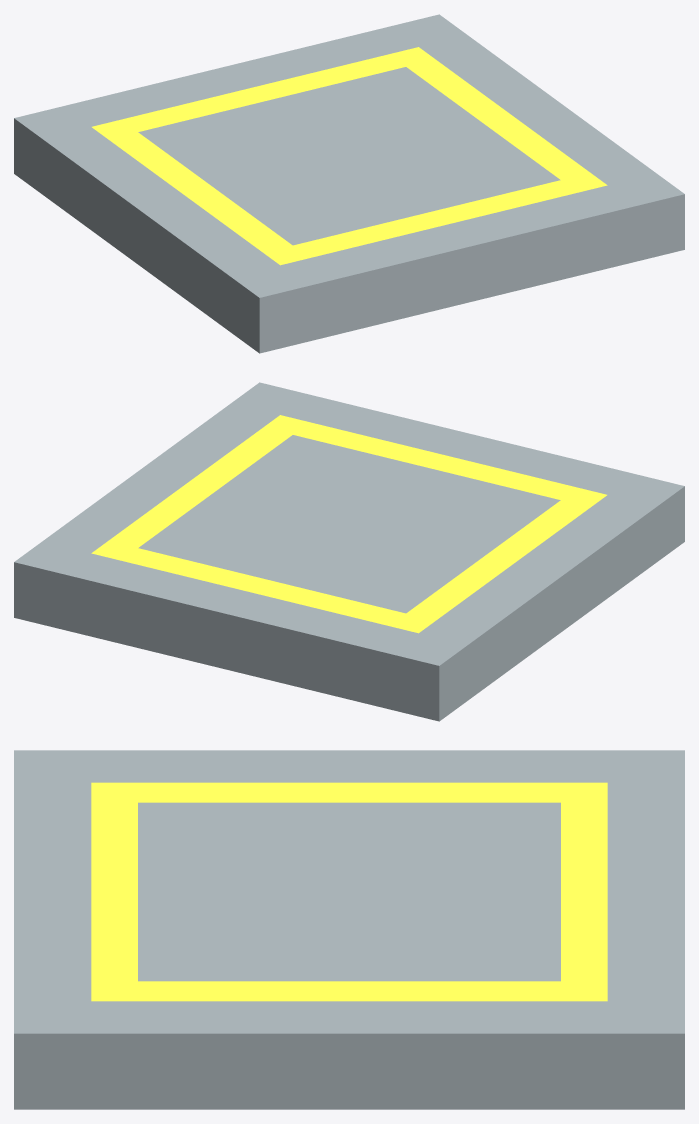
Rendered from SM_PlatformSquareB_v0.fbx.
3 views of the same model, one above another, from view 1: azimuth 30°, elevation 25°; view 2: azimuth 150°, elevation 25°; view 3: azimuth 270°, elevation 25° (orthographic). The views are drawn at different scales.
Parts seen in each view (by area): view 1: SM_PlatformSquareB_v0; view 2: SM_PlatformSquareB_v0; view 3: SM_PlatformSquareB_v0.
Boxes of the visible parts, left/top/right/bottom form: SM_PlatformSquareB_v0: left=14, top=14, right=684, bottom=353; SM_PlatformSquareB_v0: left=14, top=382, right=684, bottom=721; SM_PlatformSquareB_v0: left=14, top=750, right=684, bottom=1109.
Bounding box in the file's own units: 1 × 0.125 × 1.
